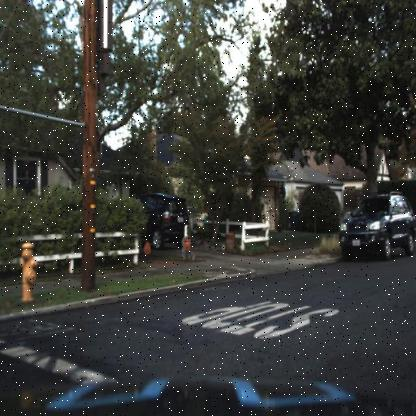car: (334, 189, 414, 259), (120, 190, 188, 255)
